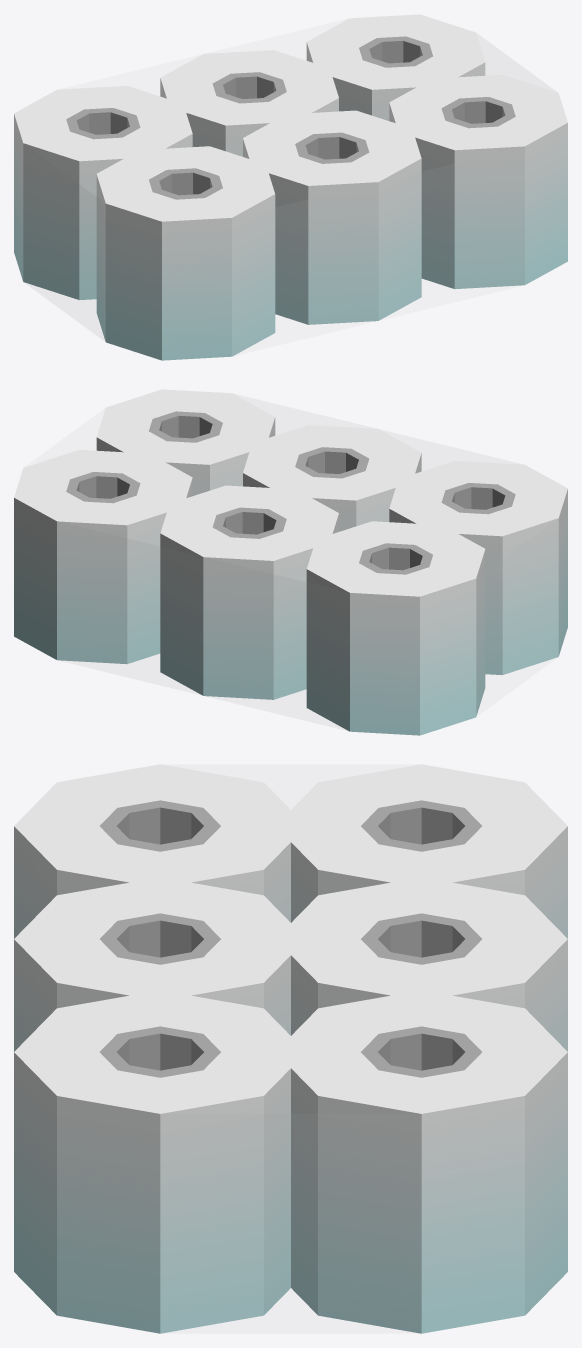
File: roll_toilet_pack_wrapped.fbx
3 renders of one model, top to bottom at view 1: azimuth 30°, elevation 25°; view 2: azimuth 150°, elevation 25°; view 3: azimuth 270°, elevation 25°, orthographic. The views are drawn at different scales.
Visible parts, largest first — view 1: roll_toilet_pack_wrapped; view 2: roll_toilet_pack_wrapped; view 3: roll_toilet_pack_wrapped.
Part boxes in pixels (x1,y1,x2,y2): roll_toilet_pack_wrapped: (14, 14, 567, 360); roll_toilet_pack_wrapped: (14, 389, 567, 735); roll_toilet_pack_wrapped: (14, 764, 567, 1333).
Size of the model in its own units: 526 by 154 by 352.
